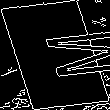M_W: (5, 27, 105, 83)
